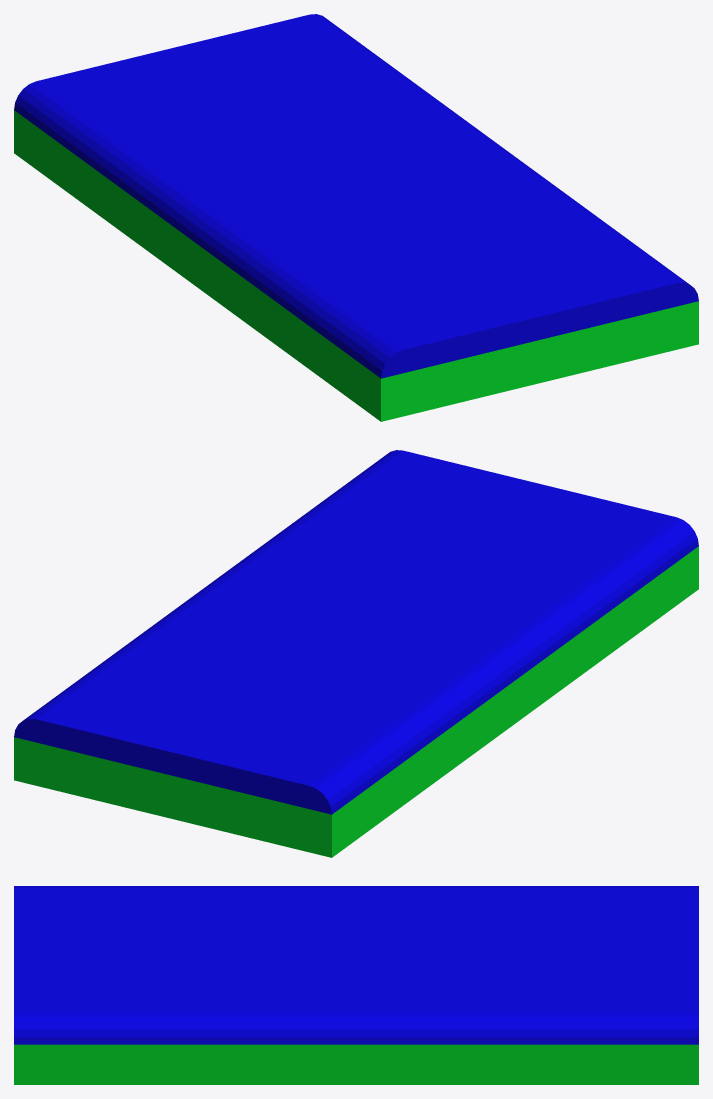
3 renders of one model, top to bottom at view 1: azimuth 30°, elevation 25°; view 2: azimuth 150°, elevation 25°; view 3: azimuth 270°, elevation 25°, orthographic. The views are drawn at different scales.
Visible parts, largest first — view 1: plank20; view 2: plank20; view 3: plank20.
Boxes of the visible parts, x1=… form: plank20: x1=14, y1=14, x2=698, y2=421; plank20: x1=14, y1=450, x2=698, y2=857; plank20: x1=14, y1=886, x2=698, y2=1084.
Size of the model in its own units: 500 by 100 by 1000.
